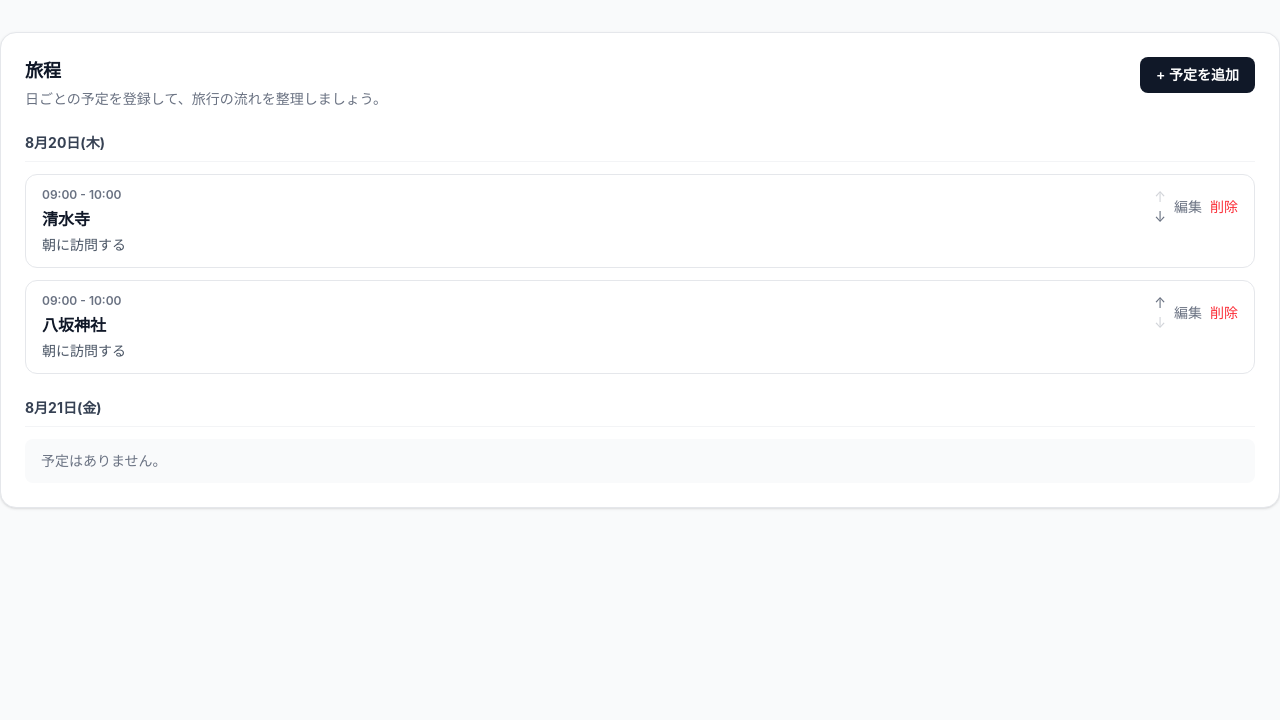
Scenario: ItineraryList › 並び替えに失敗した場合は順序を変えずエラーを表示する
Expected: the heading "八坂神社" is shown, x1=42 y1=315 x2=106 y2=335
Click the button named "八坂神社を上へ移動". click: (1160, 303)
box: x1=1154 y1=293 x2=1166 y2=313
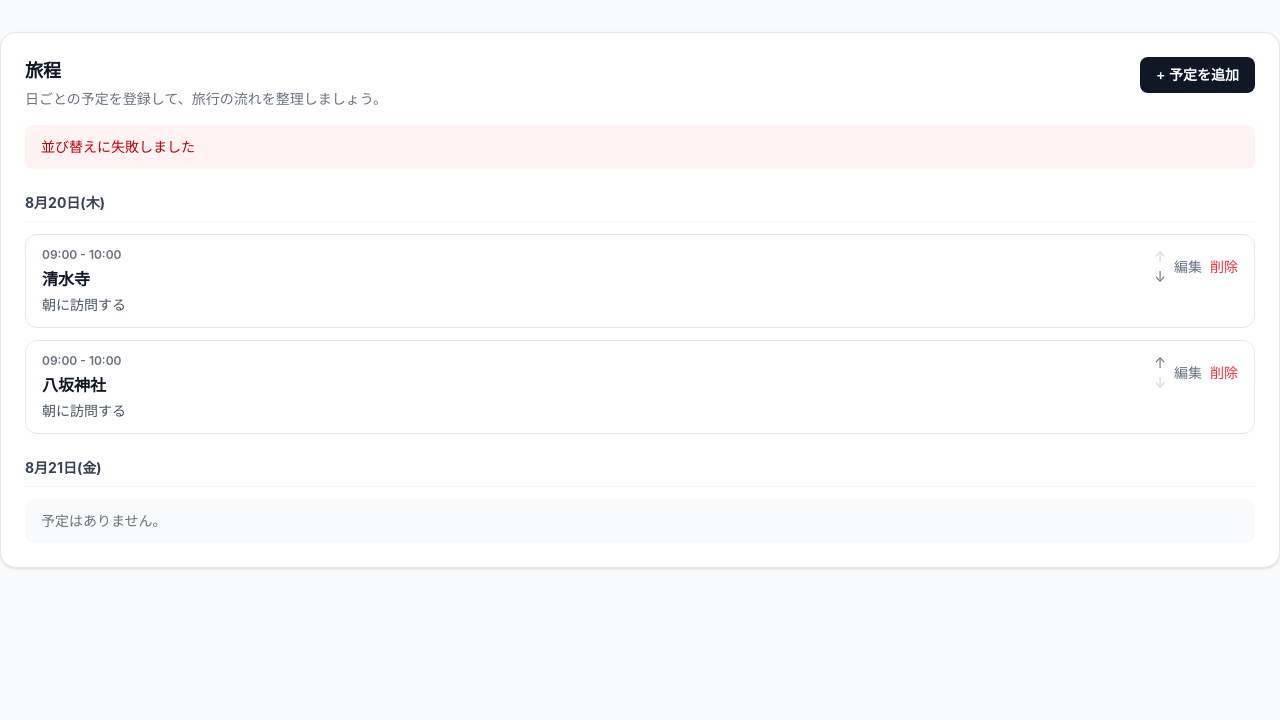
Expected: the headings read "清水寺", "八坂神社", in this order, x1=42 y1=269 x2=90 y2=289; x1=42 y1=375 x2=106 y2=395
Result: the message reads "並び替えに失敗しました" at x1=41 y1=138 x2=195 y2=155
